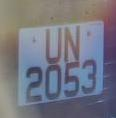0: (43, 61, 65, 103)
2: (23, 62, 46, 106)
3: (81, 57, 100, 98)
5: (62, 58, 83, 100)
N: (62, 23, 84, 63)
U: (43, 27, 65, 64)
